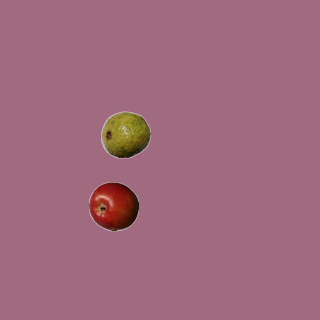Apple Braeburn: (88, 181, 138, 231)
Guava: (100, 109, 150, 159)
